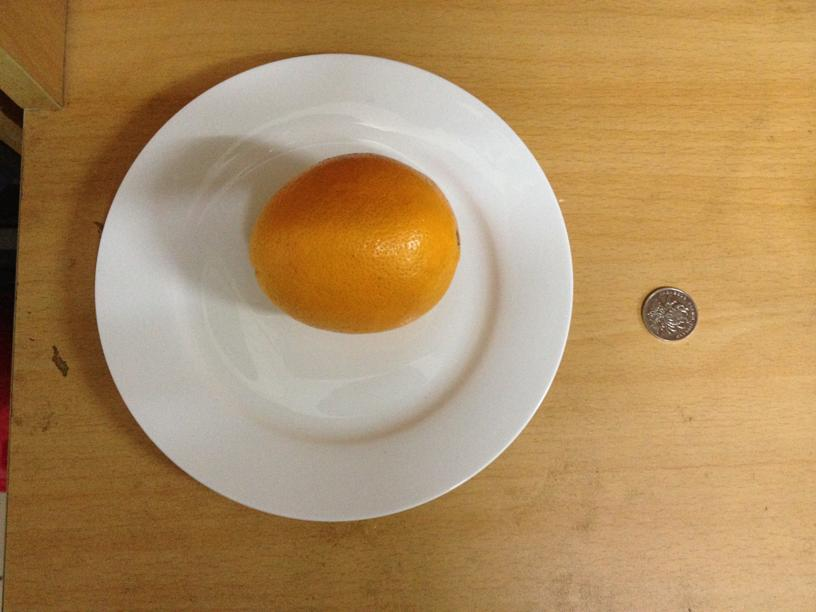coin: (640, 285, 697, 340)
orange: (253, 153, 458, 334)
